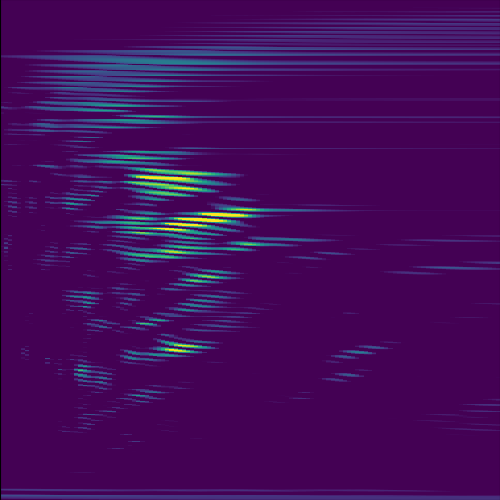semblance: (119, 167, 233, 198), (149, 204, 269, 233)
